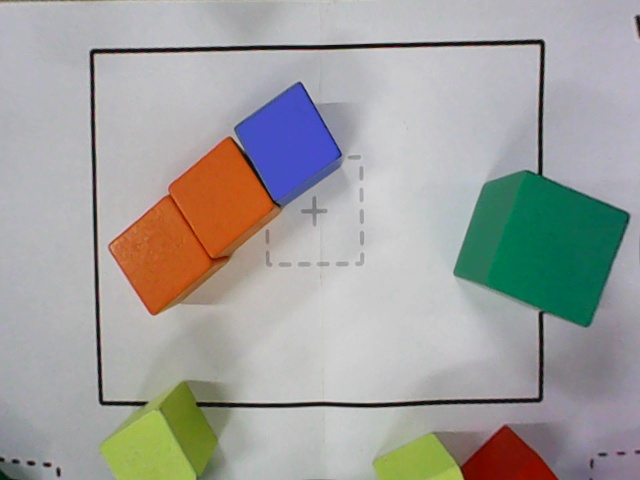upside of big cube: (484, 170, 632, 328)
upside of small cube: (232, 81, 343, 203), (167, 136, 275, 260), (107, 195, 215, 317), (97, 406, 198, 479), (424, 466, 464, 479)
